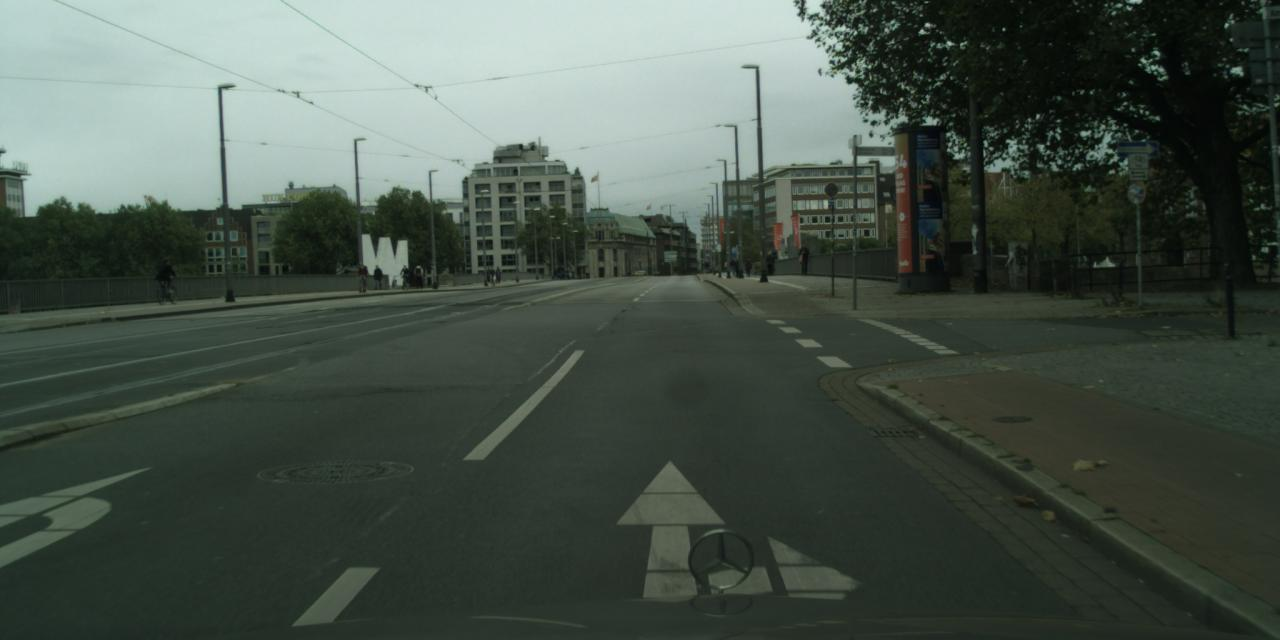ped: (158, 256, 174, 294), (798, 243, 809, 274), (553, 269, 582, 280), (487, 266, 502, 286), (372, 264, 382, 290), (413, 263, 423, 288), (357, 262, 366, 286), (765, 251, 774, 274), (730, 257, 739, 277), (401, 264, 408, 285), (746, 258, 752, 278)
